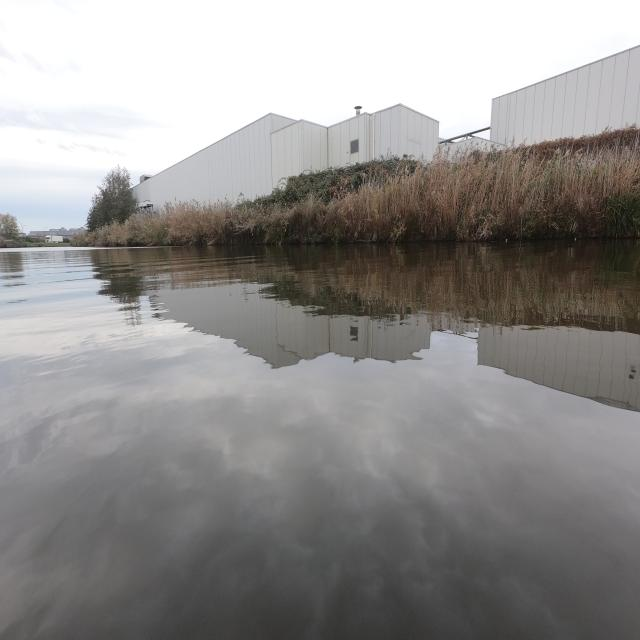reed: (85, 125, 640, 246)
tree: (87, 166, 135, 231)
water: (1, 236, 638, 639)
